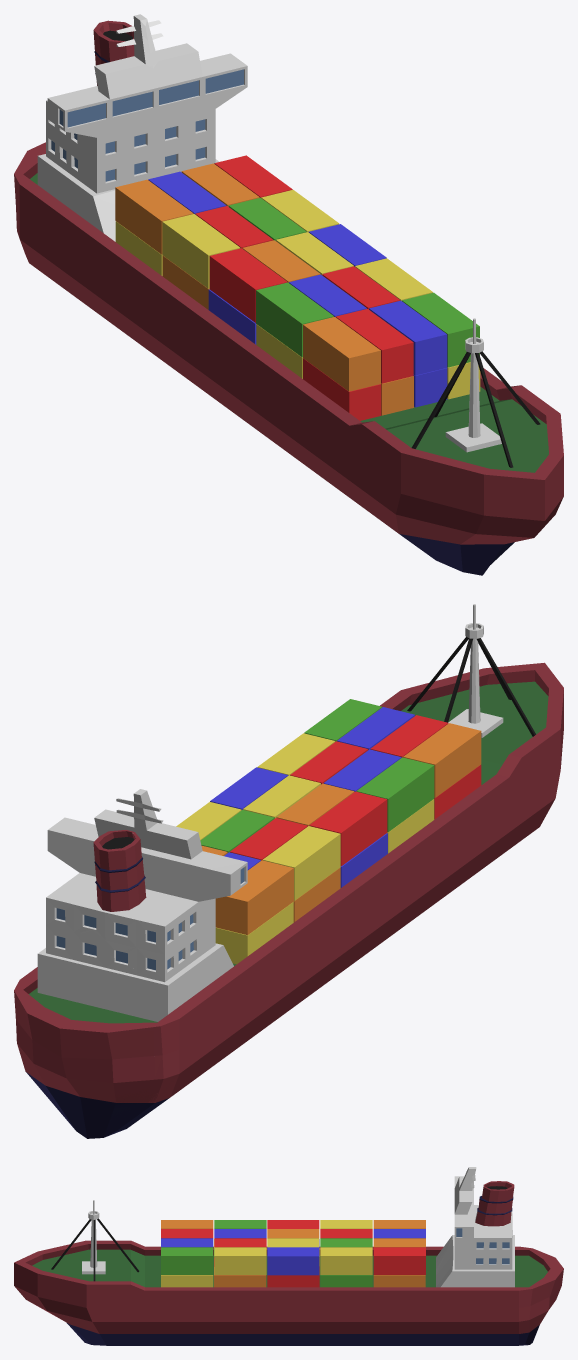
File: cargo 2Fractured.fbx
3 views of the same model, one above another, from view 1: azimuth 30°, elevation 25°; view 2: azimuth 150°, elevation 25°; view 3: azimuth 270°, elevation 25° (orthographic). The views are drawn at different scales.
Visible parts, largest first — view 1: Cube, Cube_cell.001, Cube_cell.006, Cube_cell.027, Cube.028, Cube_cell.021, Cube.039, Cube.044, Cube.031, Cube.037, Cube.026, Cube.029 (+33 smaller); view 2: Cube, Cube_cell.027, Cube_cell.006, Cube_cell.015, Cube.044, Cube.037, Cube.028, Cube.031, Cube.039, Cube_cell.026, Cube_cell.003, Cube.001 (+25 smaller); view 3: Cube, Cube_cell.006, Cube_cell.001, Cube_cell.019, Cube_cell.009, Cube.034, Cube.027, Cube.032, Cube.041, Cube.043, Cube_cell.015, Cube_cell.008 (+28 smaller).
Part boxes in pixels (x1=…): Cube: x1=14, y1=16, x2=563, y2=533; Cube_cell.001: x1=392, y1=405, x2=563, y2=575; Cube_cell.006: x1=210, y1=325, x2=532, y2=531; Cube_cell.027: x1=19, y1=204, x2=222, y2=369; Cube.028: x1=303, y1=317, x2=380, y2=391; Cube_cell.021: x1=78, y1=91, x2=160, y2=158; Cube.039: x1=162, y1=214, x2=240, y2=288; Cube.044: x1=115, y1=179, x2=193, y2=254; Cube.031: x1=256, y1=282, x2=333, y2=357; Cube.037: x1=209, y1=248, x2=287, y2=322; Cube.026: x1=369, y1=300, x2=447, y2=375; Cube.029: x1=336, y1=309, x2=413, y2=383; Cube: x1=16, y1=662, x2=563, y2=1138; Cube_cell.027: x1=146, y1=876, x2=371, y2=1106; Cube_cell.006: x1=367, y1=706, x2=560, y2=953; Cube_cell.015: x1=24, y1=955, x2=154, y2=1105; Cube.044: x1=215, y1=860, x2=293, y2=935; Cube.037: x1=309, y1=791, x2=387, y2=866; Cube.028: x1=403, y1=723, x2=481, y2=797; Cube.031: x1=356, y1=757, x2=434, y2=832; Cube.039: x1=263, y1=826, x2=340, y2=900; Cube_cell.026: x1=109, y1=893, x2=168, y2=986; Cube_cell.003: x1=149, y1=958, x2=218, y2=1078; Cube.001: x1=448, y1=604, x2=503, y2=737; Cube: x1=14, y1=1169, x2=563, y2=1345; Cube_cell.006: x1=87, y1=1244, x2=289, y2=1345; Cube_cell.001: x1=14, y1=1244, x2=122, y2=1345; Cube_cell.019: x1=447, y1=1275, x2=549, y2=1321; Cube_cell.009: x1=287, y1=1244, x2=467, y2=1300; Cube.034: x1=267, y1=1247, x2=319, y2=1275; Cube.027: x1=161, y1=1247, x2=213, y2=1274; Cube.032: x1=214, y1=1247, x2=266, y2=1274; Cube.041: x1=373, y1=1247, x2=425, y2=1274; Cube.043: x1=320, y1=1247, x2=372, y2=1274; Cube_cell.015: x1=512, y1=1243, x2=563, y2=1308; Cube_cell.008: x1=448, y1=1239, x2=479, y2=1278.
Size of the model in its own units: 229 by 368 by 1052.
